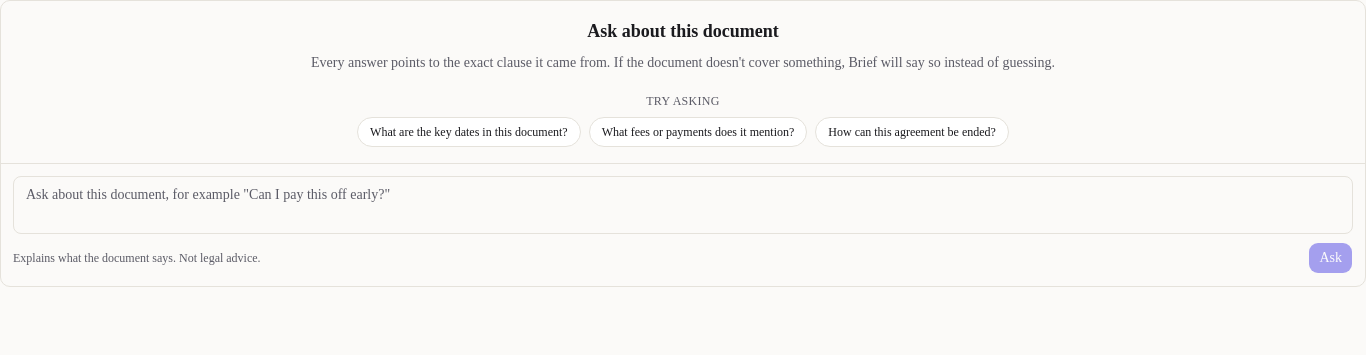
it: ChatPanel › sends a trimmed question, shows it, and clears the box
This screenshot has width=1366, height=355.
Type "  Can I pay early?  " into the text box named "Your question" at (683, 205), box [13,176,1353,234]
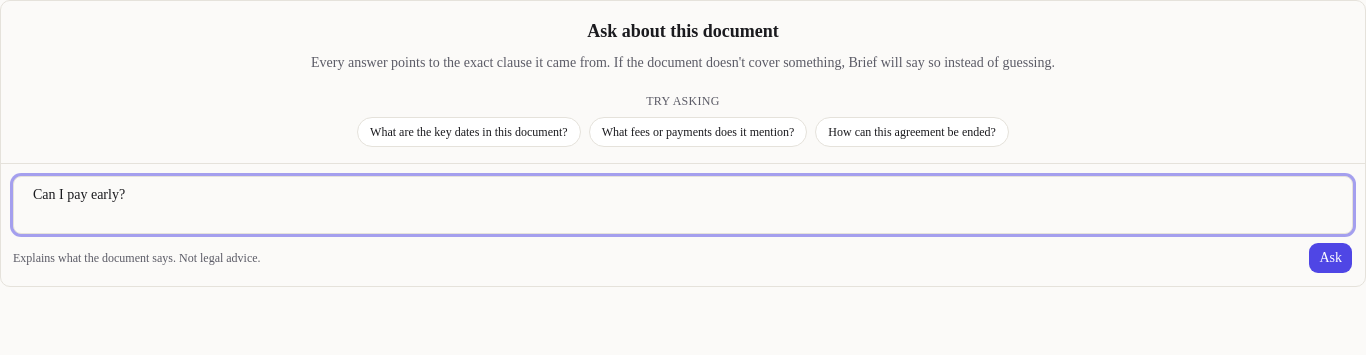
Click the button "Ask" at (1331, 258), box [1308,242,1353,274]
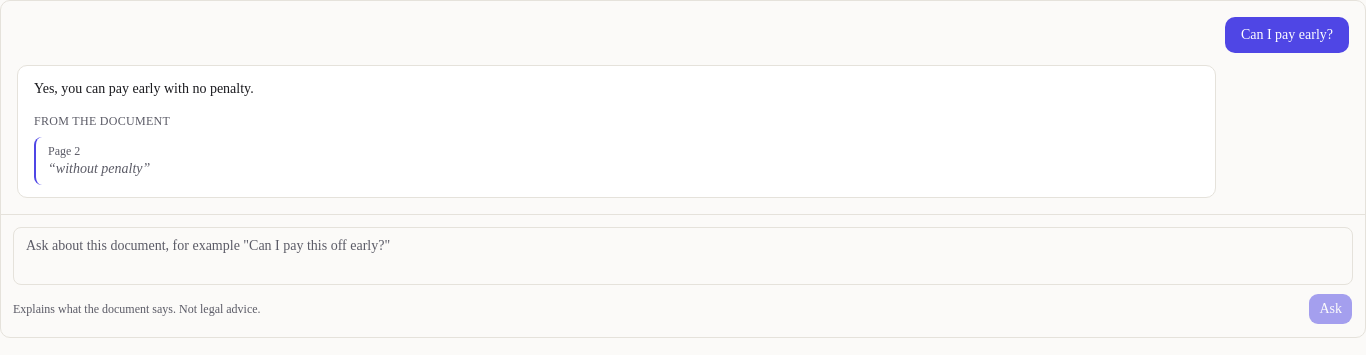
Expected: the text "Can I pay early?" is shown, [1225,17,1349,53]
Expected: the text box named "Your question" is empty, [13,227,1353,285]
